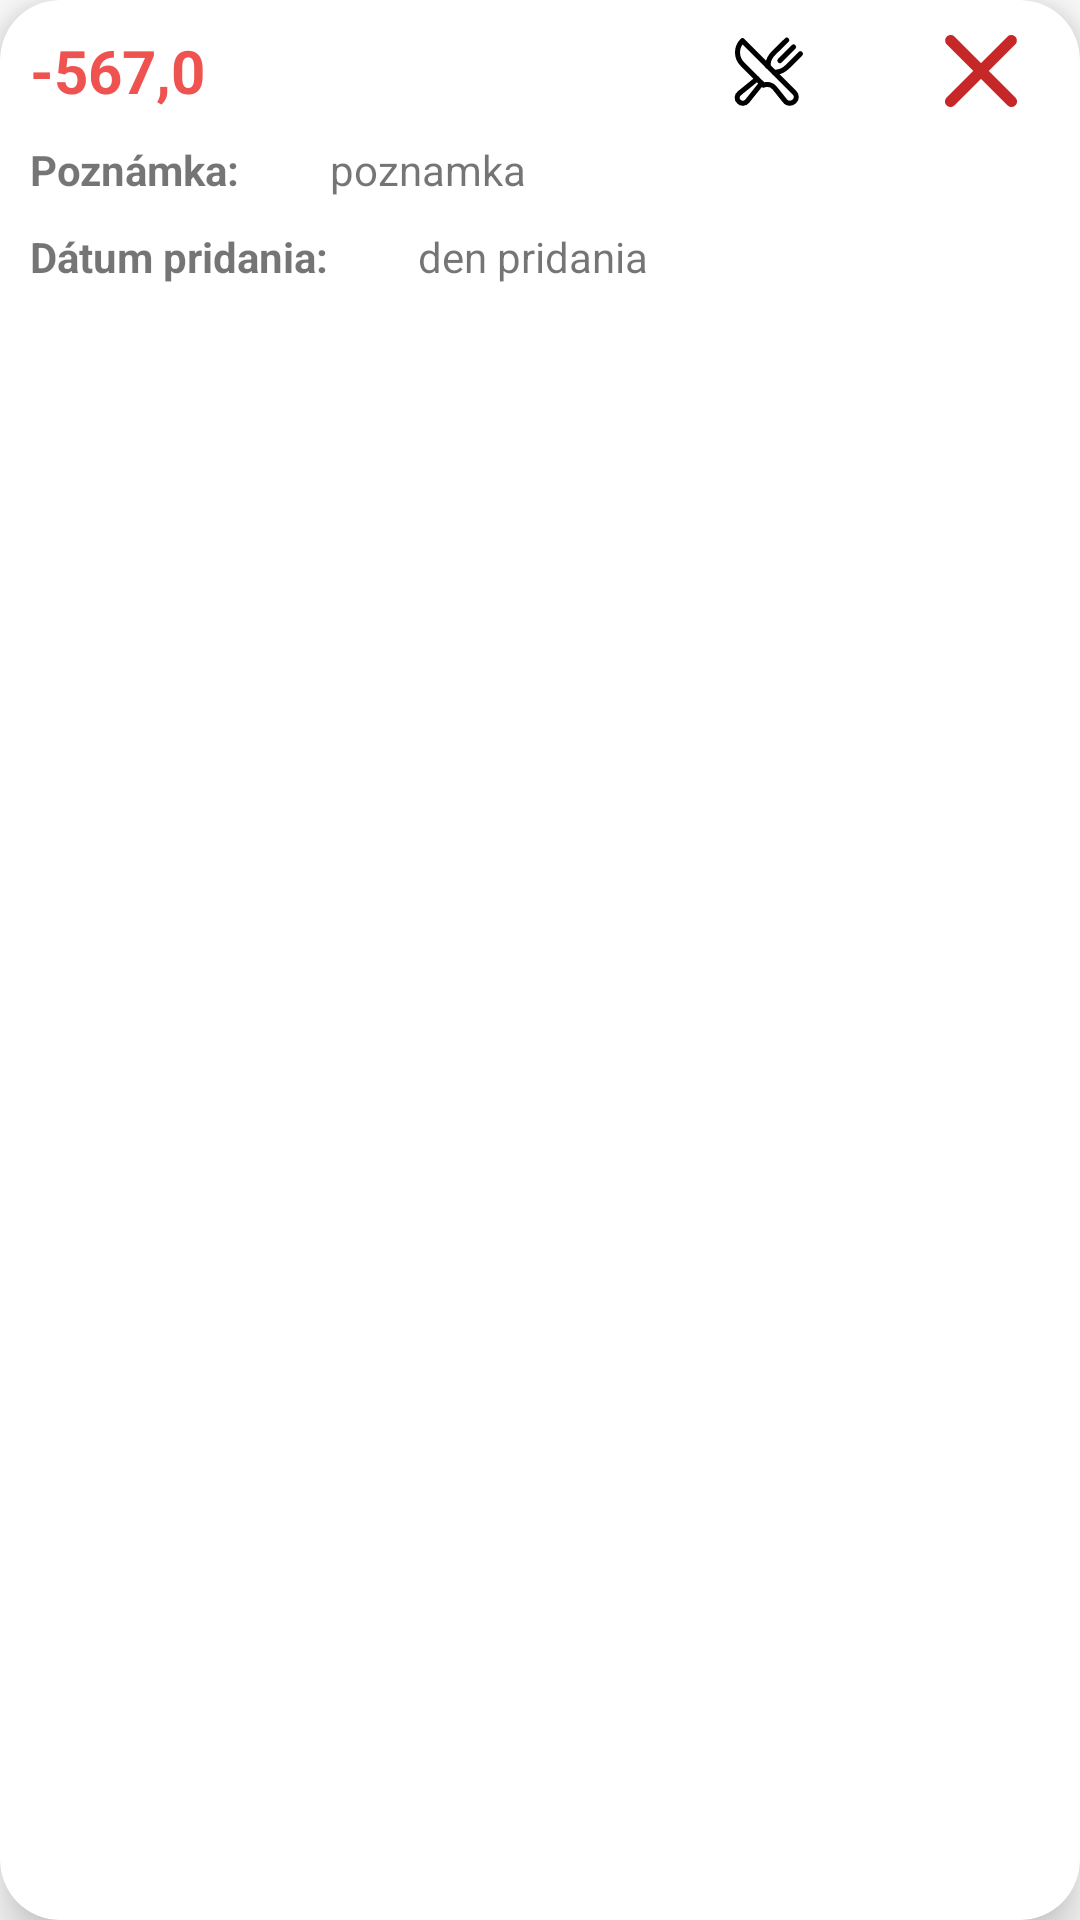

Icon bounding boxes for this 1080px×1920px phone screenshot, format bbox=[x1, y1, x2, y2]:
delete: bbox=[945, 35, 1017, 107]
food: bbox=[734, 37, 803, 106]
